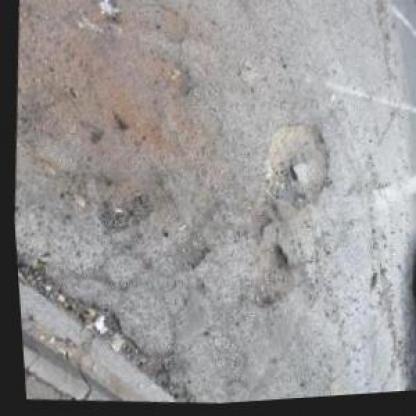pothole: (13, 242, 174, 411), (250, 119, 334, 220), (232, 241, 296, 315), (87, 170, 154, 238)
